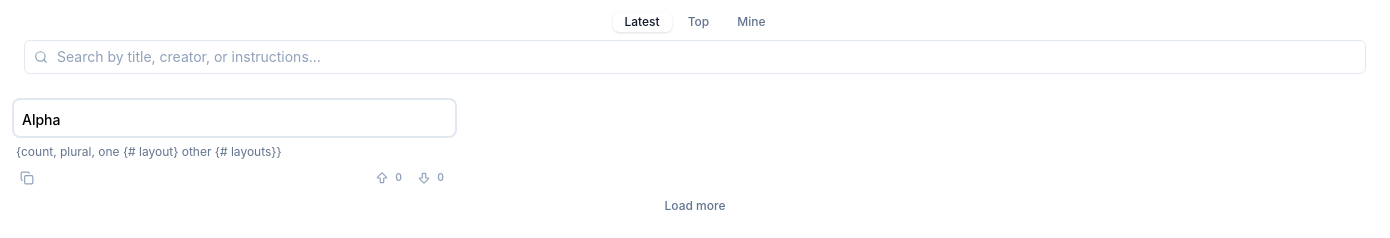
Scenario: TemplateBrowser select mode (TMPL-28) › loads more results in select mode, same as link mode
Expected: the text "Alpha" is shown, [22,110,60,130]
Click the button "Load more" at coordinates (695, 206), box [12,190,1378,222]
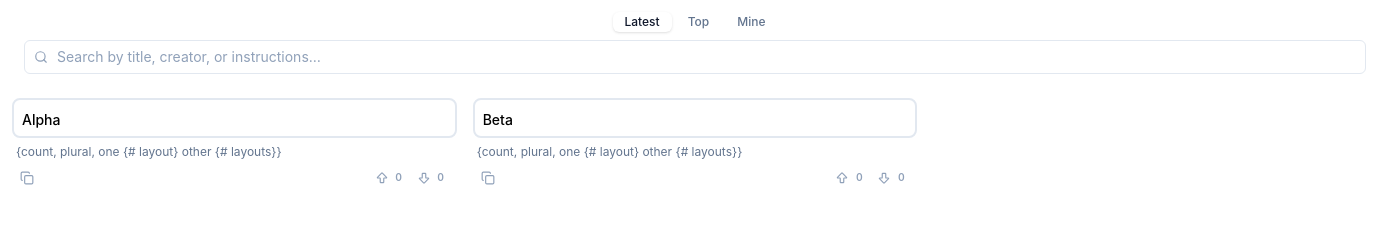
Now the text "Beta" is shown, box [483,110,513,130]
